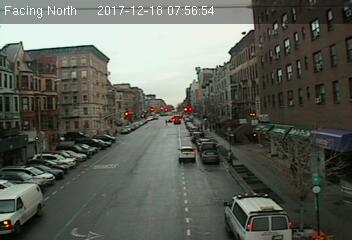car: (176, 145, 196, 161), (202, 151, 218, 162)
police: (222, 192, 295, 240)
